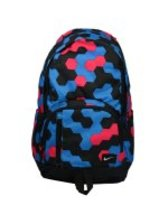bag: (31, 26, 133, 196)
